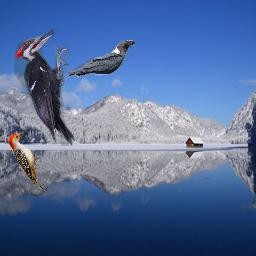Crow: (67, 40, 135, 77)
Woodpecker: (14, 29, 75, 146), (8, 130, 46, 193)
